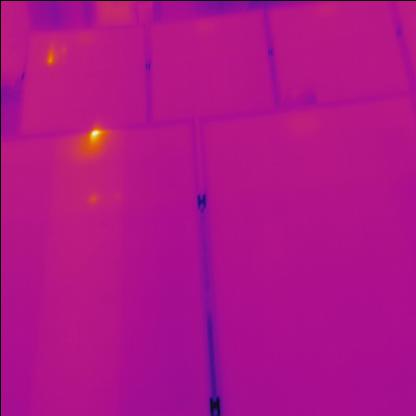hotspot: (78, 124, 108, 154)
